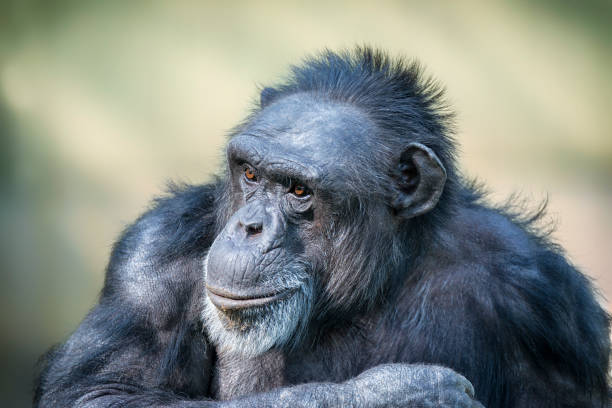chimpanzee: (183, 35, 467, 366)
